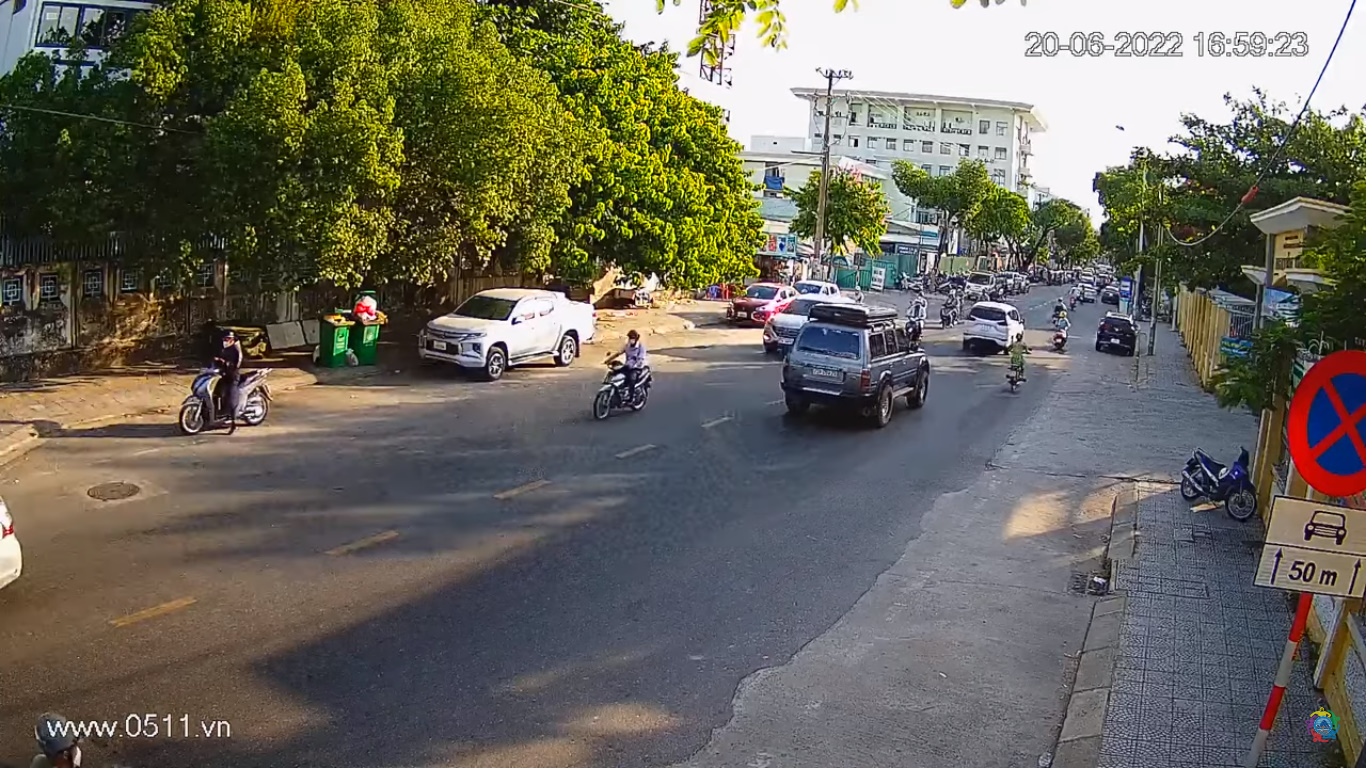car: (780, 297, 937, 433)
